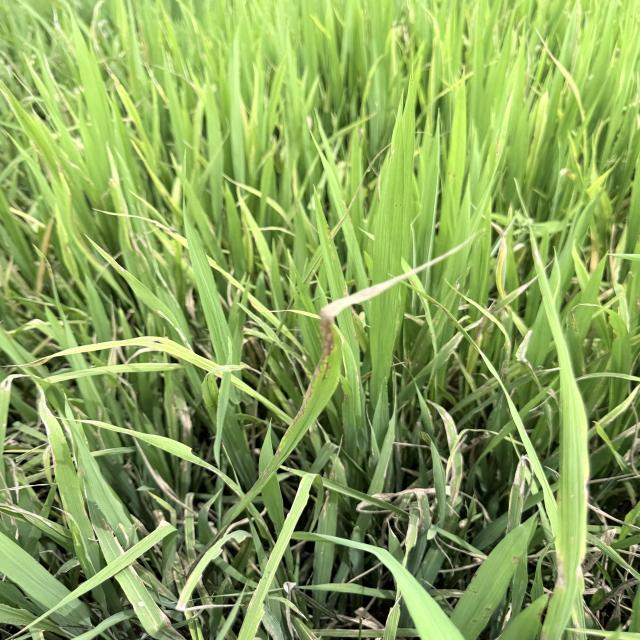Chay bia la: (277, 237, 472, 454)
